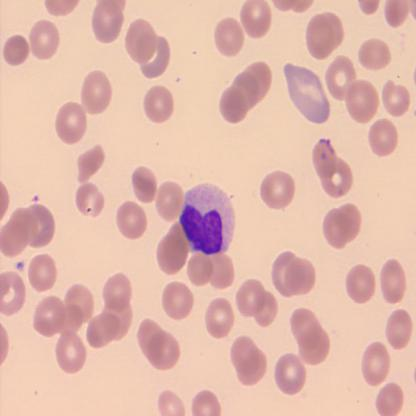Metamyelocyte: (178, 178, 240, 258)
